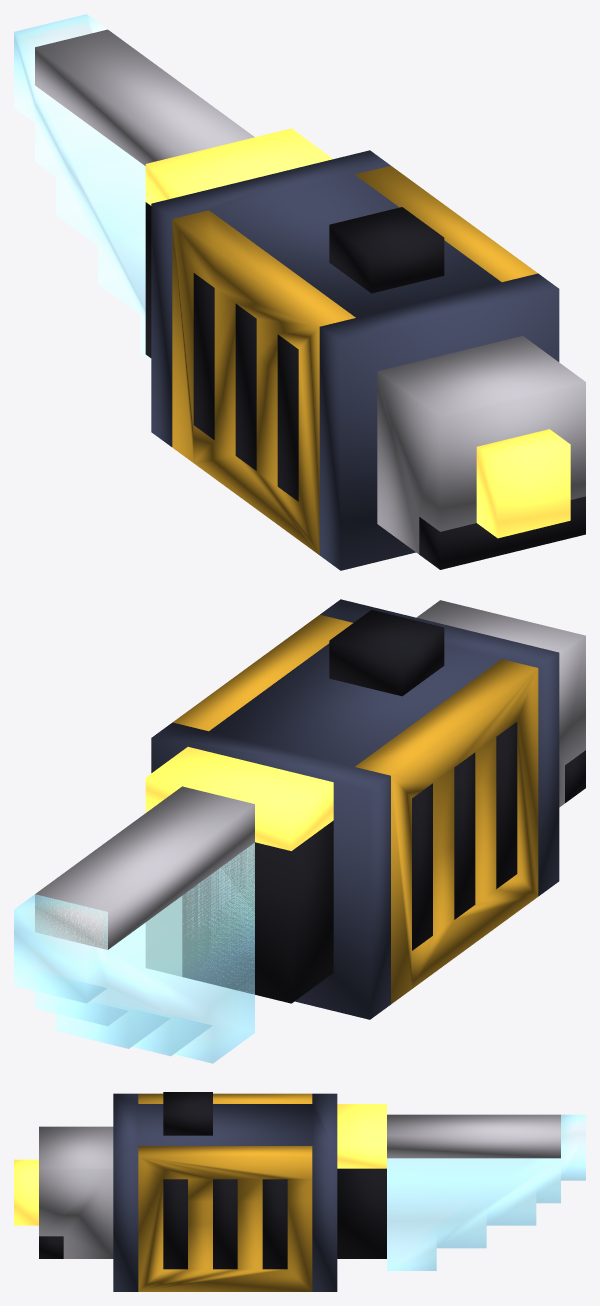
File: utility-cutter.lod1.glb
The picture shows the model from 3 angles, top to bottom: view 1: azimuth 30°, elevation 25°; view 2: azimuth 150°, elevation 25°; view 3: azimuth 270°, elevation 25°; orthographic projection. The views are drawn at different scales.
Parts seen in each view (by area): view 1: utility-cutter.body, part.blade; view 2: utility-cutter.body, part.blade; view 3: utility-cutter.body, part.blade.
Boxes of the visible parts, x1=… form: utility-cutter.body: x1=145, y1=128, x2=585, y2=570; part.blade: x1=14, y1=14, x2=254, y2=360; utility-cutter.body: x1=145, y1=599, x2=585, y2=1019; part.blade: x1=14, y1=786, x2=254, y2=1063; utility-cutter.body: x1=14, y1=1092, x2=386, y2=1291; part.blade: x1=387, y1=1114, x2=585, y2=1270.
Size of the model in its own units: 0.1875 by 0.2188 by 0.7188.
